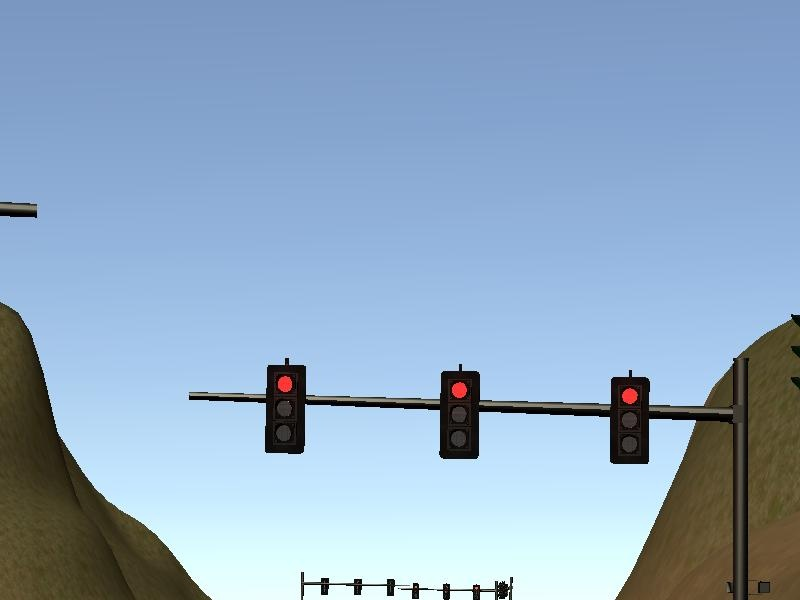red: (264, 364, 307, 456), (608, 378, 651, 466), (437, 372, 479, 459)
